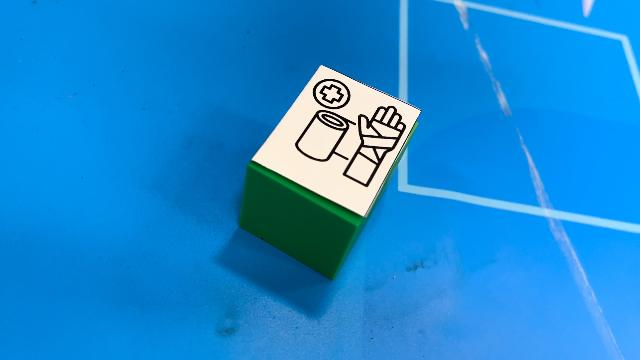bandage: (238, 64, 422, 280)
